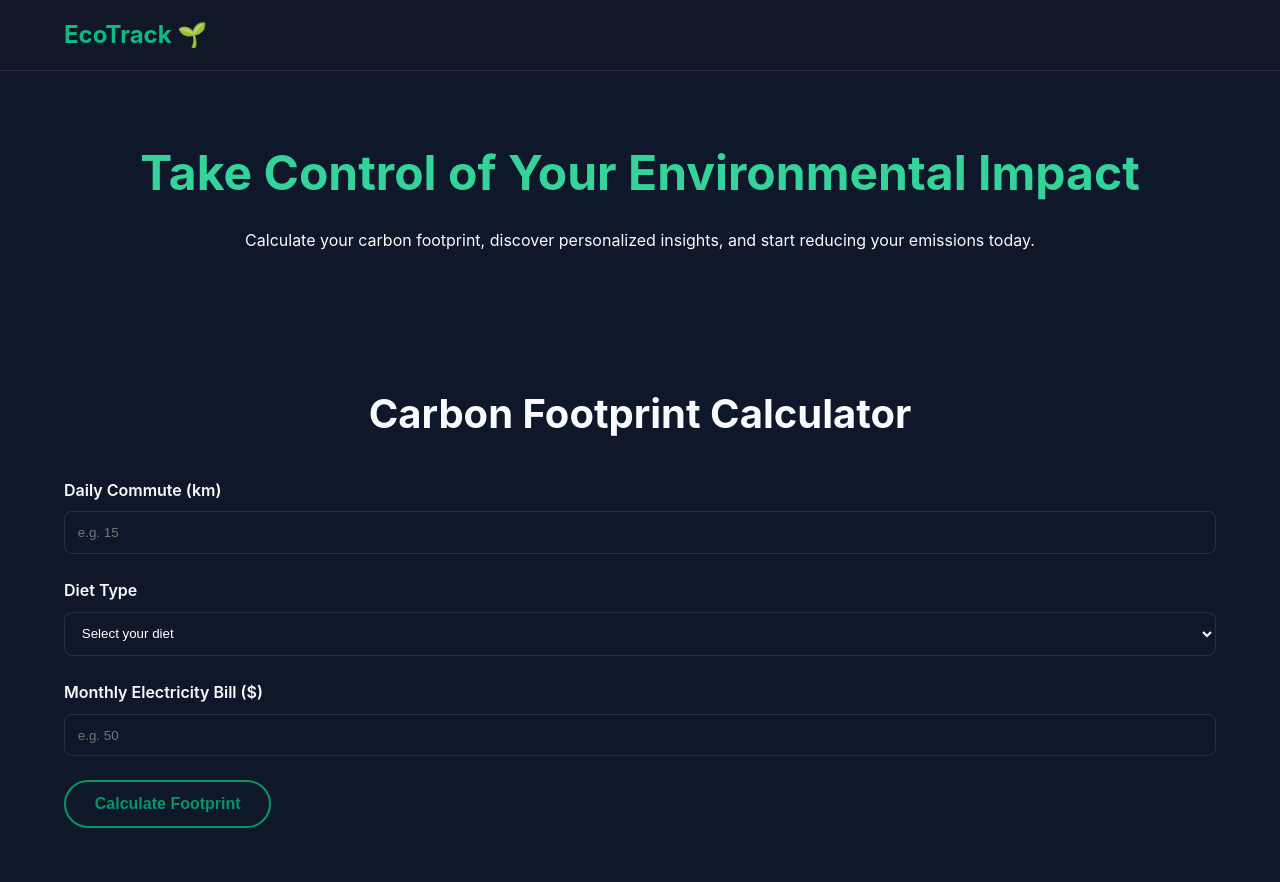
Carbon Footprint App › calculates the footprint correctly
This screenshot has width=1280, height=882.
# Fill the form
Type "10" into the number field labelled "Daily Commute (km)" at (640, 533), box [64, 511, 1216, 554]
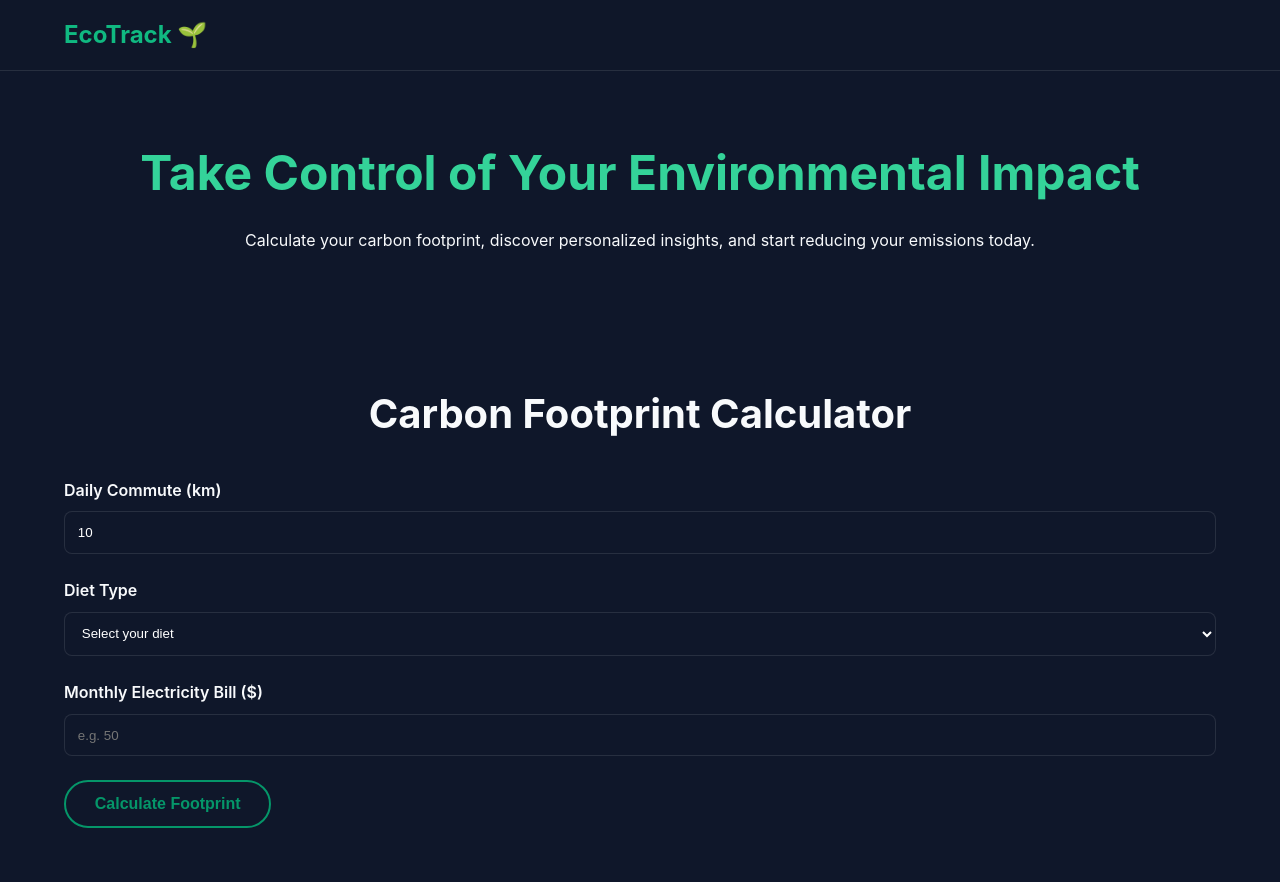
Select "Vegan" in the dropdown labelled "Diet Type" at (640, 634), box [64, 612, 1216, 656]
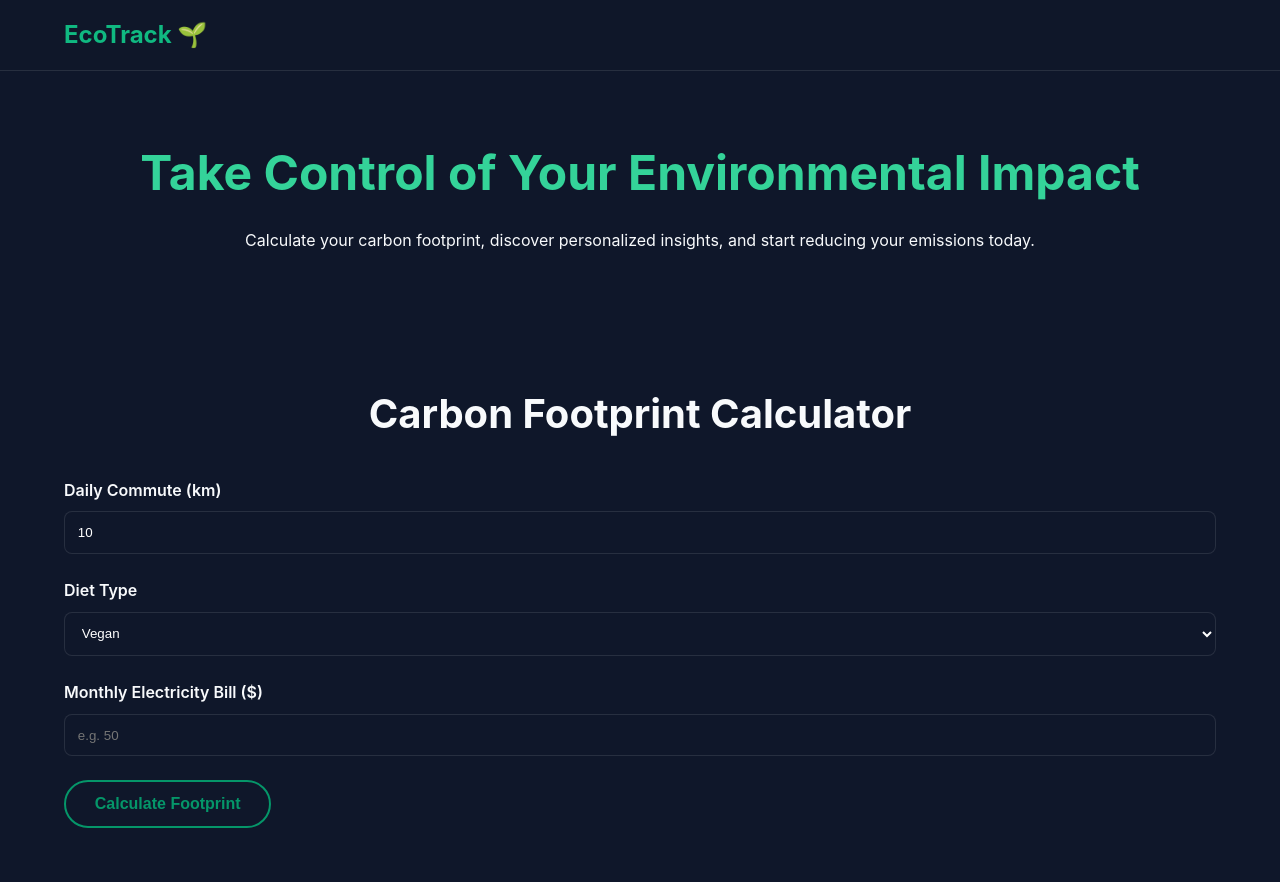
Type "50" into the number field labelled "Monthly Electricity Bill ($)" at (640, 735), box [64, 714, 1216, 756]
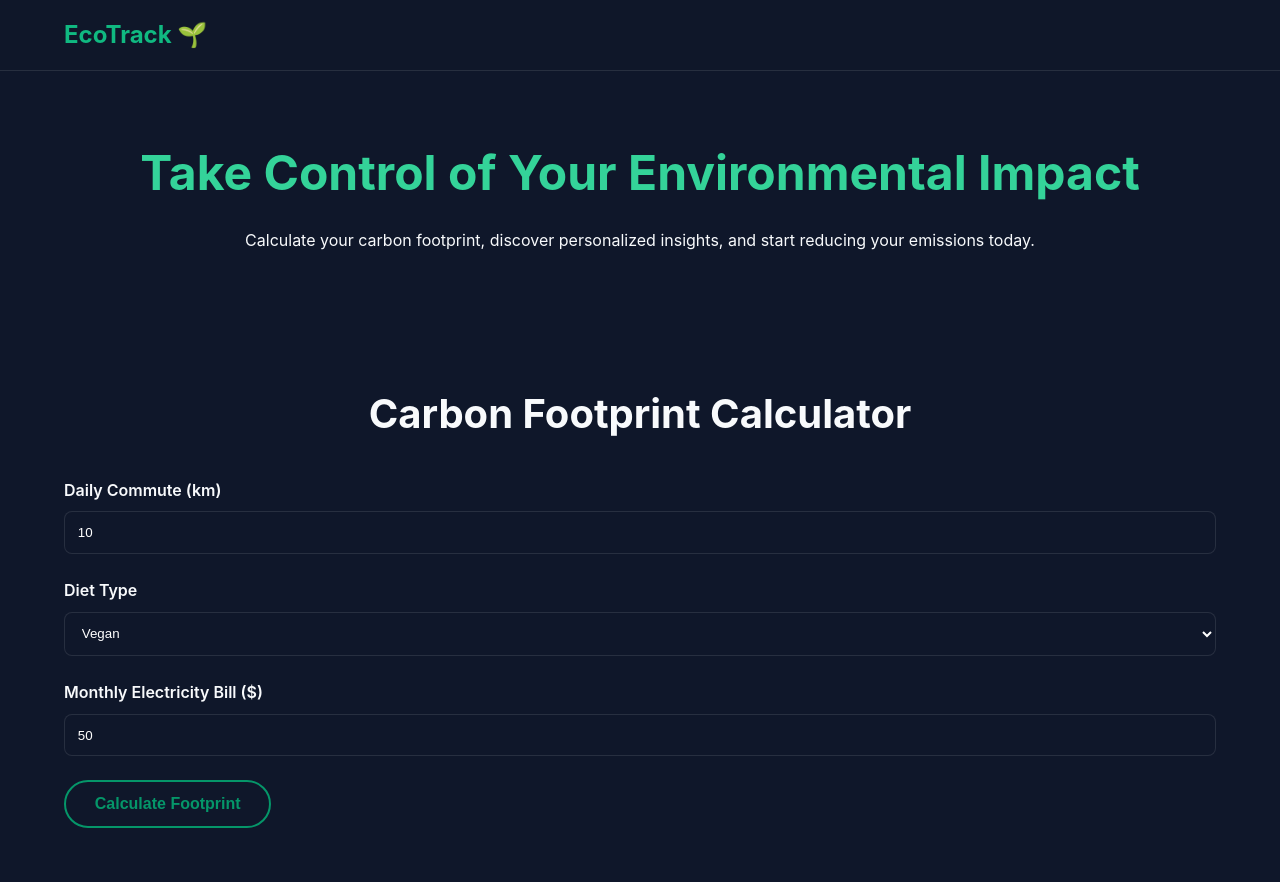
Click the button "Calculate Footprint" at (168, 804), box [64, 780, 271, 828]
(page scrolled)
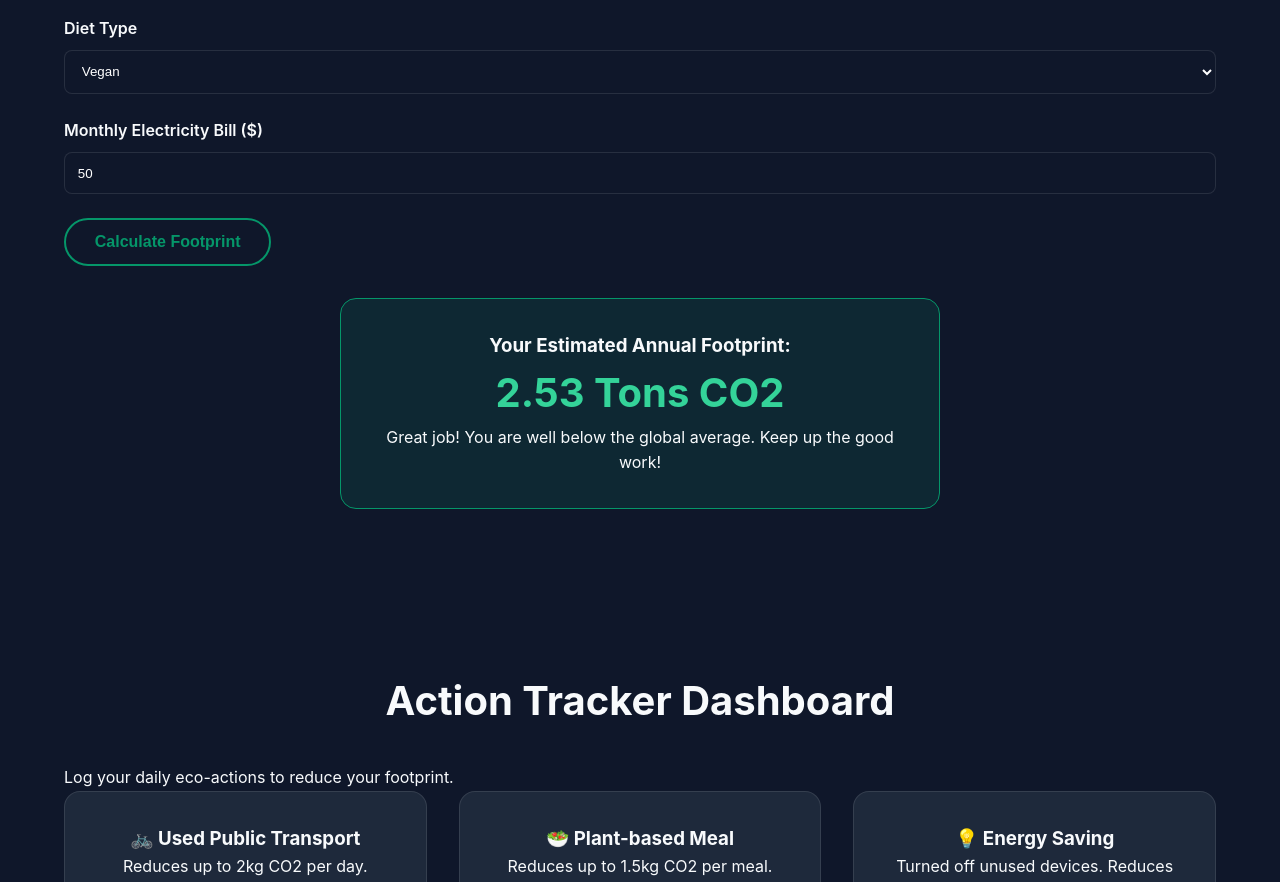
Now the text "2.53 Tons CO2" is shown, box [496, 368, 784, 417]
Now the text "Great job! You are well below the global average" is shown, box [386, 427, 894, 472]
